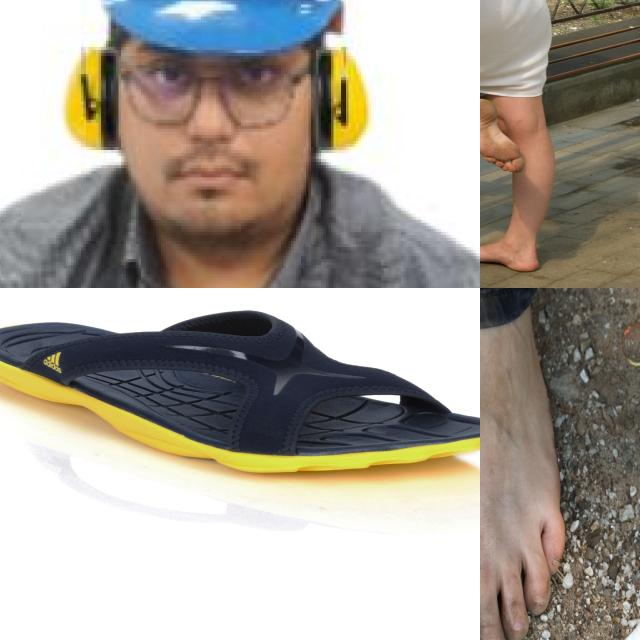Barefoots: (480, 292, 565, 640), (480, 99, 524, 173), (480, 242, 539, 272)
Ear-protection: (44, 23, 391, 154)
Sandals: (0, 308, 480, 475)
head_helmet: (77, 0, 364, 56)
